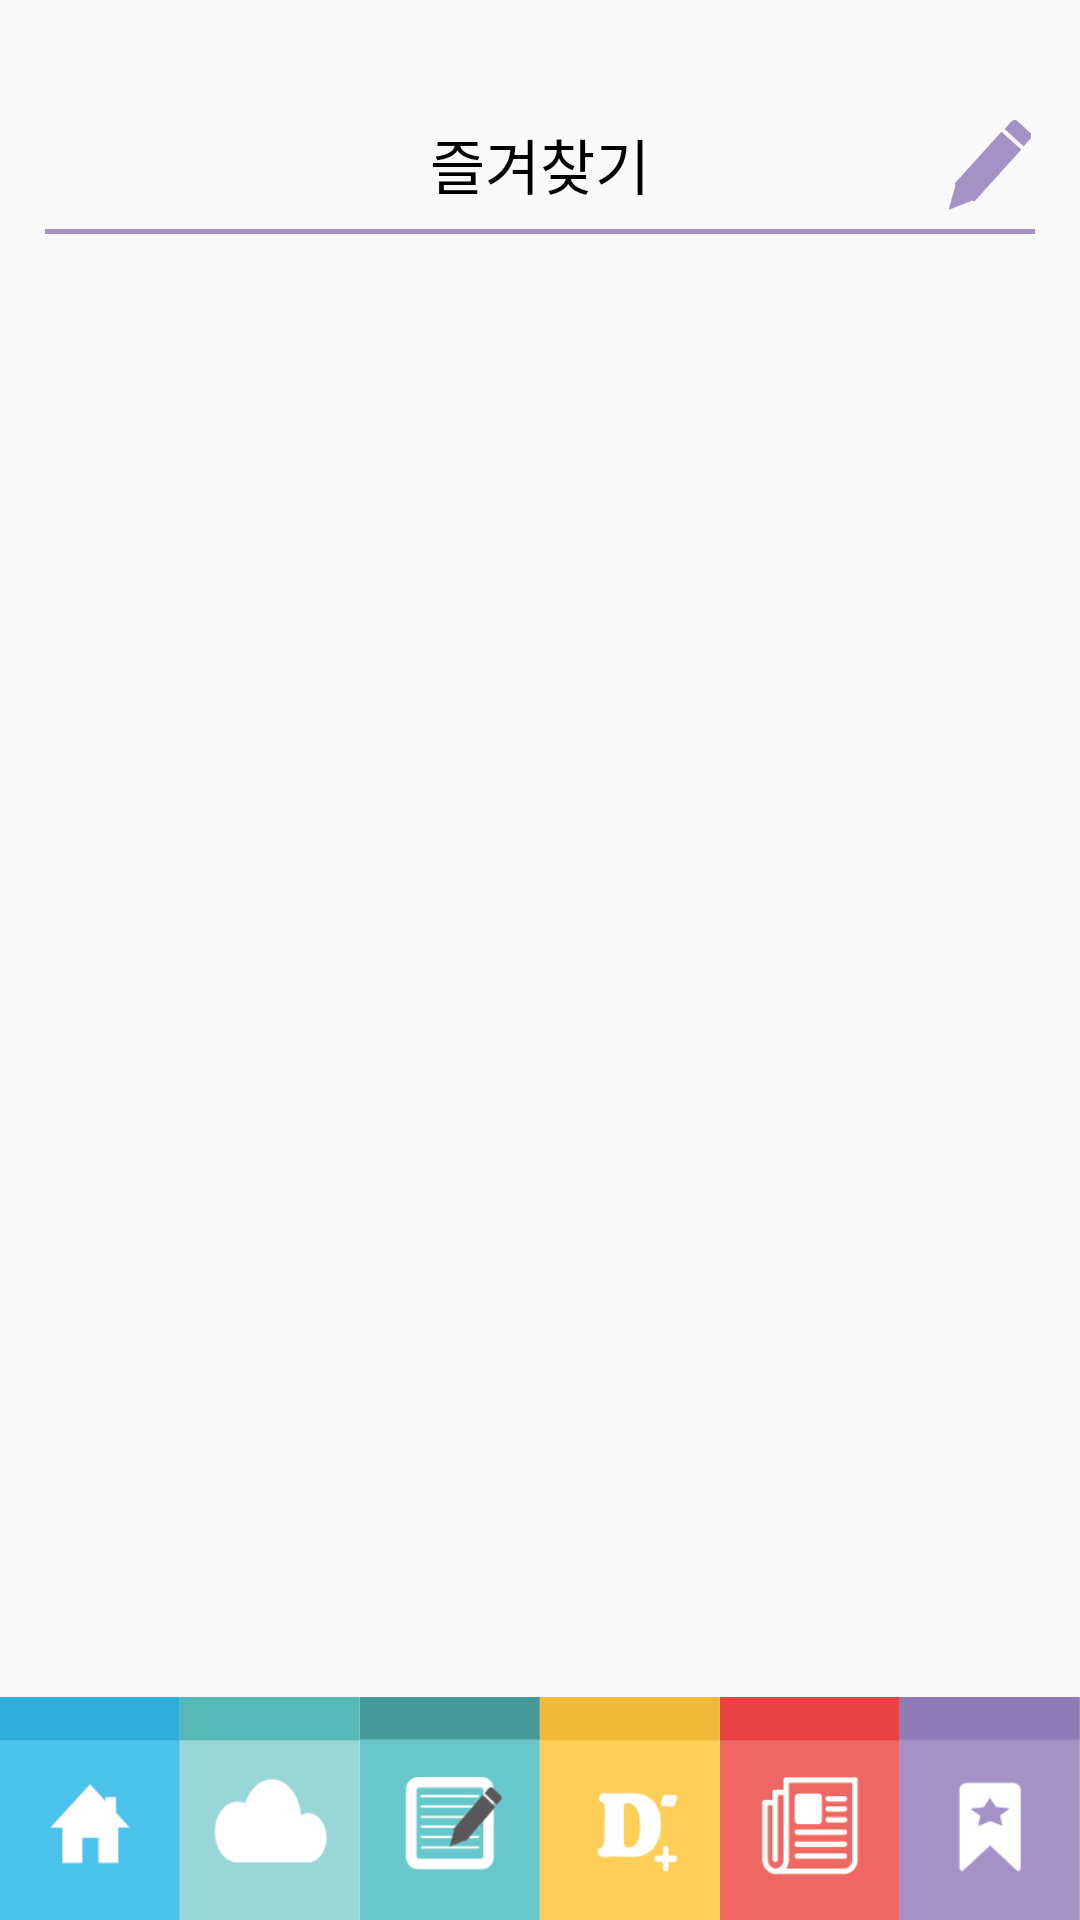

Point at icon controls on the screen. Image size 1080 x 1920, points as (x=x, y=y).
bookmark: (x=990, y=1808)
dday: (x=630, y=1808)
mainbtn: (x=90, y=1808)
memo: (x=450, y=1808)
news: (x=810, y=1808)
write: (x=990, y=165)
